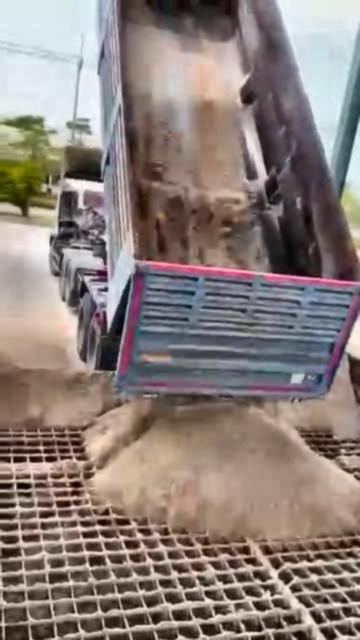sand: (1, 362, 360, 540), (249, 539, 325, 639), (1, 458, 84, 477)
